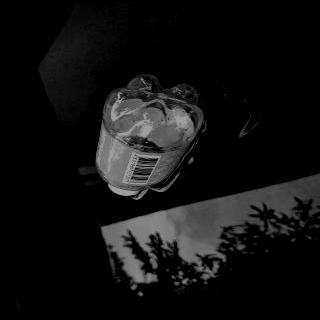bottle: (92, 71, 206, 196)
